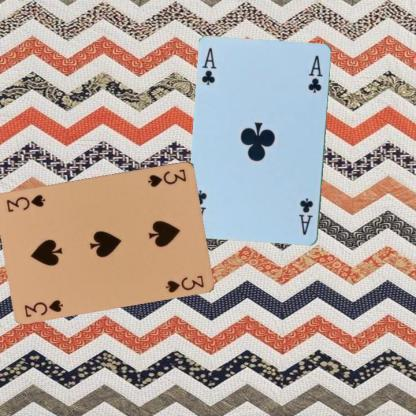3s: (145, 166, 188, 188), (22, 296, 65, 318)
Ac: (296, 196, 315, 236), (200, 45, 218, 87)
